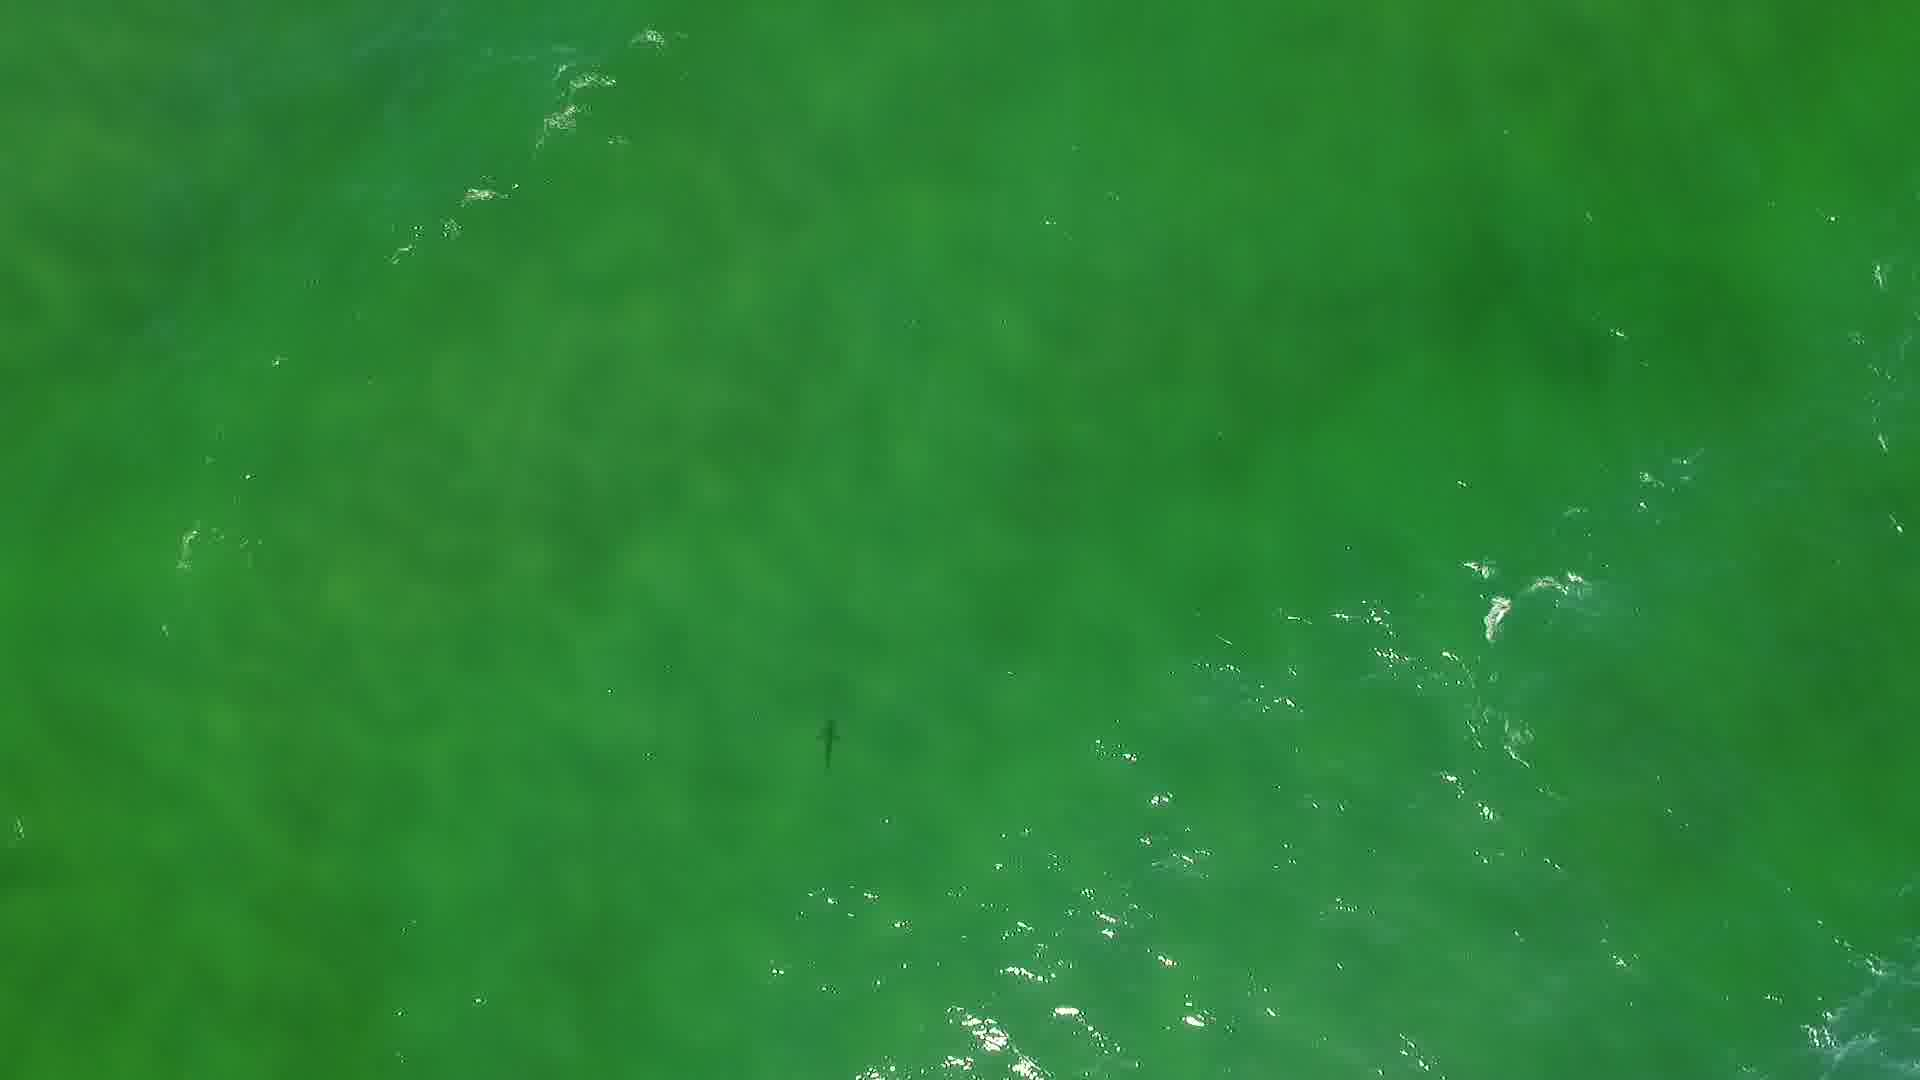shark: (812, 715, 848, 774)
